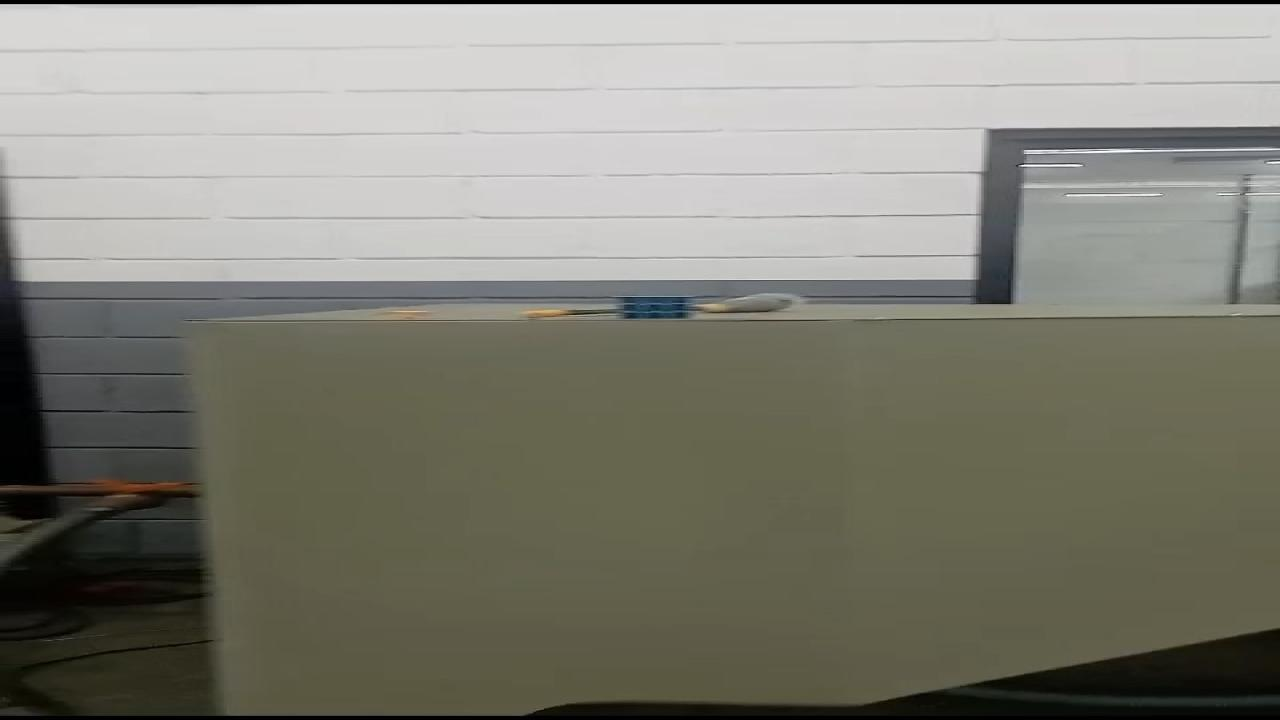Cube: (618, 296, 688, 318)
